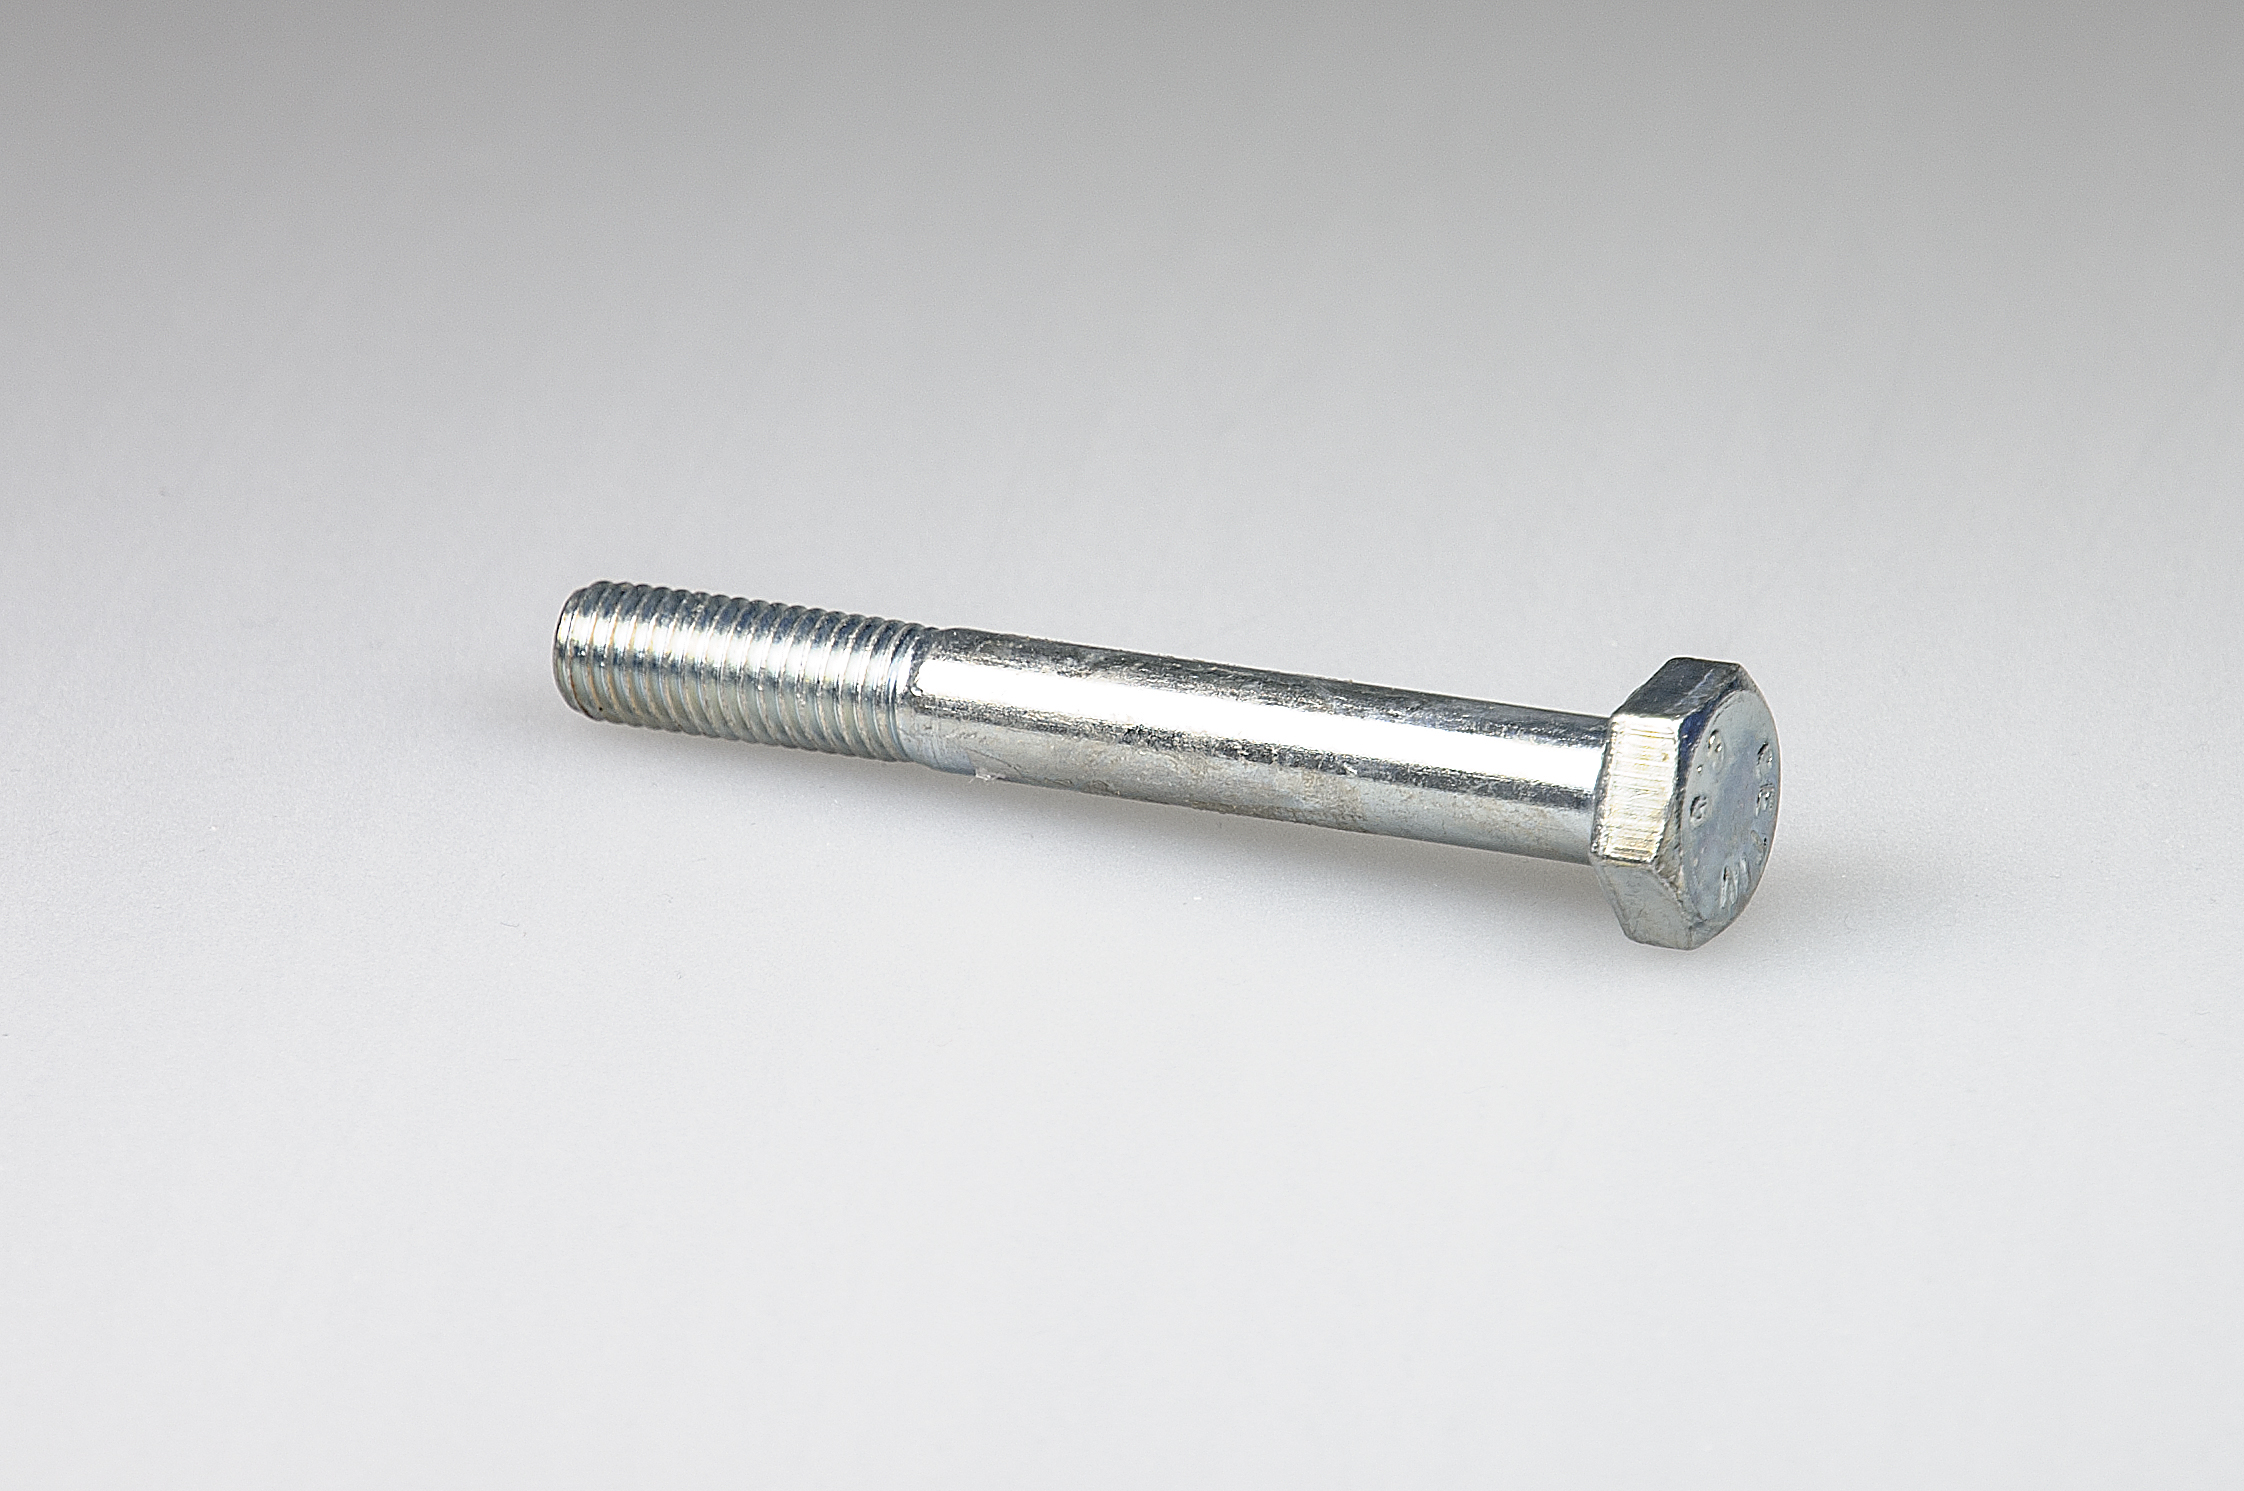screw: (547, 572, 1785, 950)
